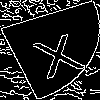X: (25, 25, 87, 80)
